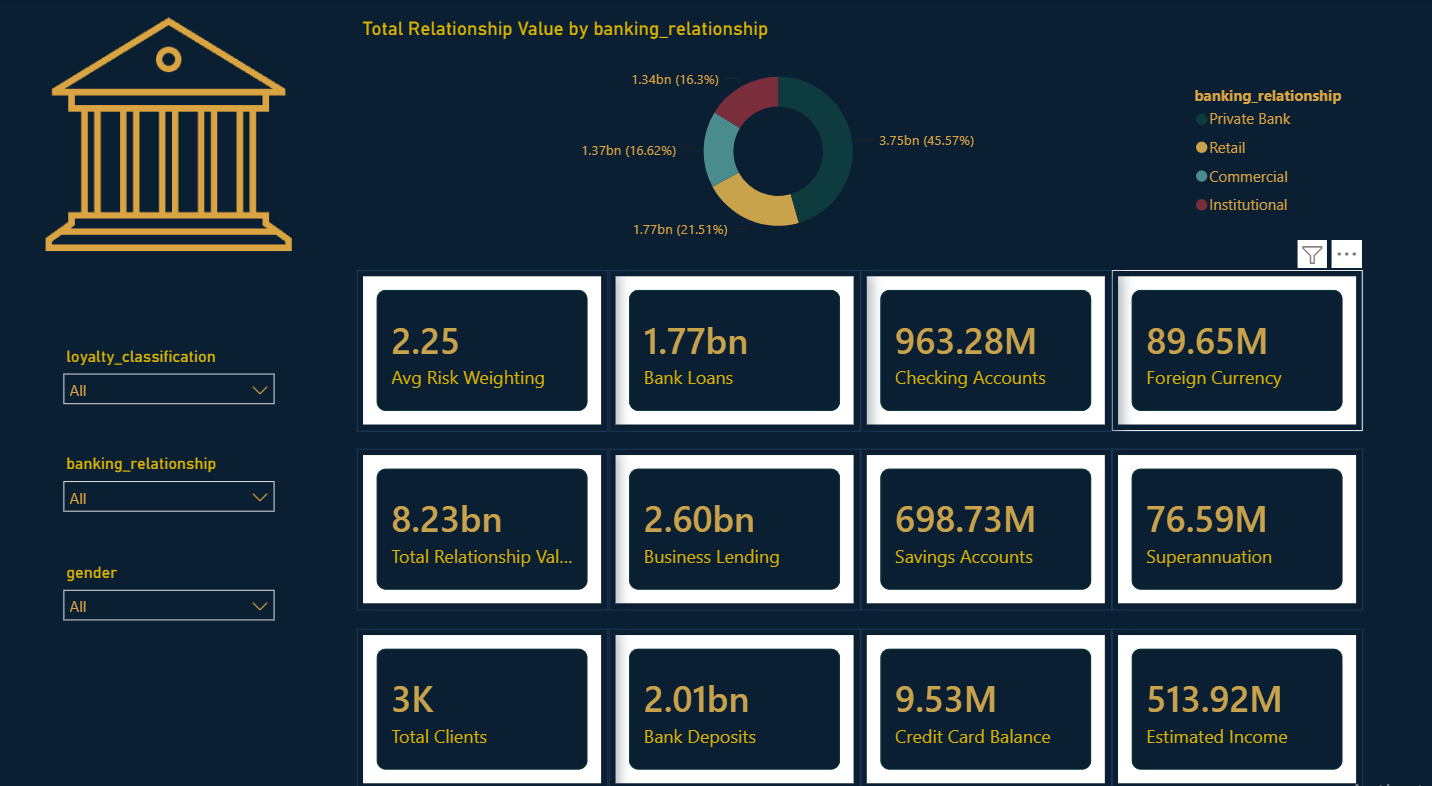

What the dashboard file says about the page in this screenshot:
{"tool":"powerbi","page":{"name":"Page 1","canvas":[1280,720],"ordinal":0},"visuals":[{"type":"slicer","fields":{"Values":["banking_clients.gender"]},"box":[48,496,208,64],"z":0},{"type":"slicer","fields":{"Values":["banking_clients.banking_relationship"]},"box":[48,400,208,64],"z":1000},{"type":"slicer","fields":{"Values":["banking_clients.loyalty_classification"]},"box":[48,304,208,64],"z":2000},{"type":"cardVisual","fields":{"Data":["Sum(banking_clients.foreign_currency_account)"]},"box":[992,240,224,144],"z":3000},{"type":"cardVisual","fields":{"Data":["Sum(banking_clients.checking_accounts)"]},"box":[768,240,224,144],"z":4000},{"type":"cardVisual","fields":{"Data":["Sum(banking_clients.bank_loans)"]},"box":[544,240,224,144],"z":5000},{"type":"cardVisual","fields":{"Data":["Sum(banking_clients.business_lending)"]},"box":[544,400,224,144],"z":6000},{"type":"cardVisual","fields":{"Data":["Sum(banking_clients.saving_accounts)"]},"box":[768,400,224,144],"z":7000},{"type":"cardVisual","fields":{"Data":["Sum(banking_clients.superannuation_savings)"]},"box":[992,400,224,144],"z":8000},{"type":"cardVisual","fields":{"Data":["Sum(banking_clients.bank_deposits)"]},"box":[544,560,224,144],"z":9000},{"type":"cardVisual","fields":{"Data":["Sum(banking_clients.credit_card_balance)"]},"box":[768,560,224,144],"z":10000},{"type":"cardVisual","fields":{"Data":["Sum(banking_clients.estimated_income)"]},"box":[992,560,224,144],"z":11000},{"type":"cardVisual","fields":{"Data":["banking_clients.Total Clients"]},"box":[320,560,224,144],"z":12000},{"type":"cardVisual","fields":{"Data":["banking_clients.Total Relationship Value"]},"box":[320,400,224,144],"z":13000},{"type":"cardVisual","fields":{"Data":["banking_clients.Avg Risk Weighting"]},"box":[320,240,224,144],"z":14000},{"type":"donutChart","fields":{"Y":["banking_clients.Total Relationship Value"],"Category":["banking_clients.banking_relationship"]},"box":[320,16,896,208],"z":15000},{"type":"image","box":[0,16,304,208],"z":16000}]}

Visuals, with their boxes in screenshot pixels (x1, y1, x2, y2), scaled from the page's 1280x720 canvas onto the 1432x786 screenshot:
slicer - banking_clients.gender: crop(54, 541, 286, 611)
slicer - banking_clients.banking_relationship: crop(54, 437, 286, 507)
slicer - banking_clients.loyalty_classification: crop(54, 332, 286, 402)
cardVisual - Sum(banking_clients.foreign_currency_account): crop(1110, 262, 1360, 419)
cardVisual - Sum(banking_clients.checking_accounts): crop(859, 262, 1110, 419)
cardVisual - Sum(banking_clients.bank_loans): crop(609, 262, 859, 419)
cardVisual - Sum(banking_clients.business_lending): crop(609, 437, 859, 594)
cardVisual - Sum(banking_clients.saving_accounts): crop(859, 437, 1110, 594)
cardVisual - Sum(banking_clients.superannuation_savings): crop(1110, 437, 1360, 594)
cardVisual - Sum(banking_clients.bank_deposits): crop(609, 611, 859, 769)
cardVisual - Sum(banking_clients.credit_card_balance): crop(859, 611, 1110, 769)
cardVisual - Sum(banking_clients.estimated_income): crop(1110, 611, 1360, 769)
cardVisual - banking_clients.Total Clients: crop(358, 611, 609, 769)
cardVisual - banking_clients.Total Relationship Value: crop(358, 437, 609, 594)
cardVisual - banking_clients.Avg Risk Weighting: crop(358, 262, 609, 419)
donutChart - banking_clients.Total Relationship Value x banking_clients.banking_relationship: crop(358, 17, 1360, 245)
image: crop(0, 17, 340, 245)
